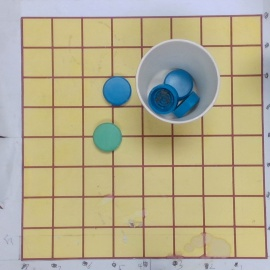blue: (103, 77, 132, 105)
cup_blue: (136, 38, 220, 125)
green: (94, 123, 123, 153)
